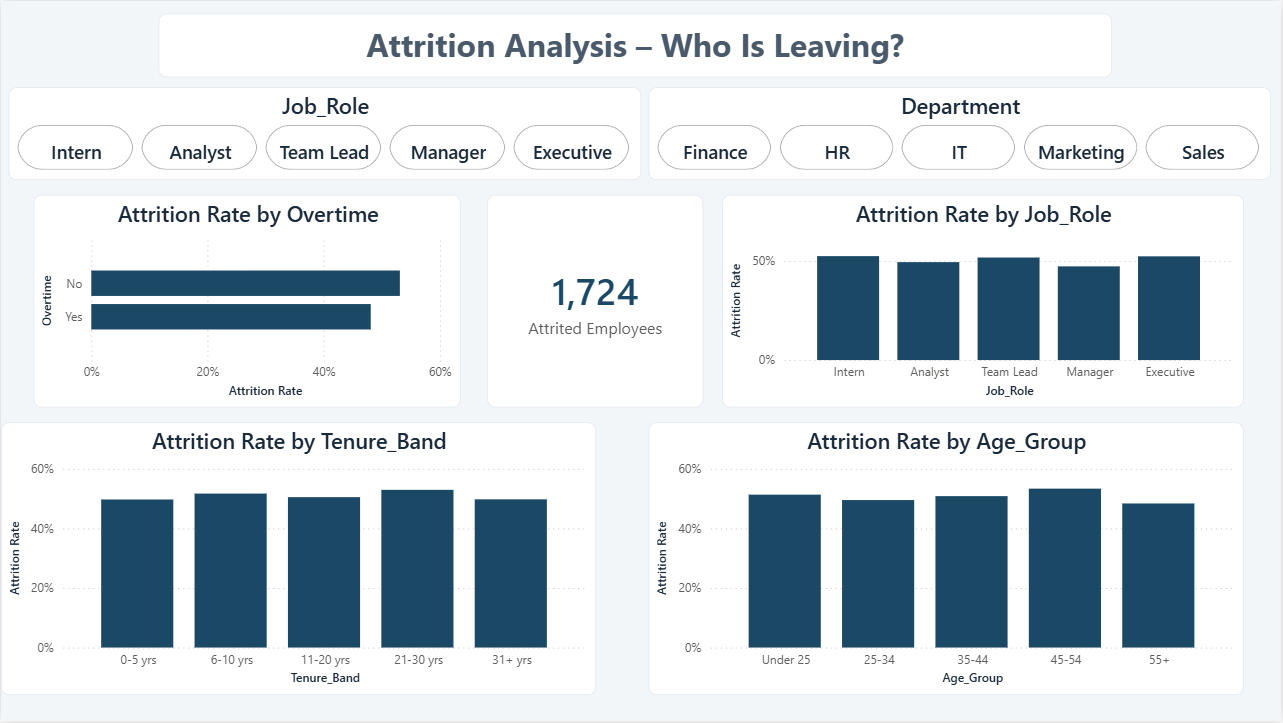

Layout of this report page (visuals, bound fields, positions):
{"tool":"powerbi","page":{"name":"Attrition Analysis","canvas":[1280,720],"ordinal":1},"visuals":[{"type":"advancedSlicerVisual","fields":{"Values":["Dim_JobRole.Job_Role"]},"box":[7.5,86.2,632.5,92.5],"z":0},{"type":"advancedSlicerVisual","fields":{"Values":["Dim_Department.Department"]},"box":[647.5,86.2,622.5,92.5],"z":1000},{"type":"clusteredColumnChart","fields":{"Category":["Dim_JobRole.Job_Role"],"Y":["Fact_Employee.Attrition Rate"]},"box":[721.2,193.8,521.2,212.5],"z":2000},{"type":"clusteredColumnChart","fields":{"Category":["Fact_Employee.Age_Group"],"Y":["Fact_Employee.Attrition Rate"]},"box":[647.5,421.2,595,272.5],"z":3000},{"type":"clusteredBarChart","fields":{"Category":["Fact_Employee.Overtime"],"Y":["Fact_Employee.Attrition Rate"]},"box":[32.5,193.8,427.5,212.5],"z":4000},{"type":"clusteredColumnChart","fields":{"Category":["Fact_Employee.Tenure_Band"],"Y":["Fact_Employee.Attrition Rate"]},"box":[0,421.2,595,272.5],"z":5000},{"type":"card","fields":{"Values":["Fact_Employee.Attrited Employees"]},"box":[486.2,193.8,216.2,212.5],"z":6000},{"type":"textbox","box":[157.5,12.5,953.8,63.8],"z":7000}]}

Visuals, with their boxes in screenshot pixels (x1, y1, x2, y2), scaled from the page's 1280x720 canvas onto the 1283x723 screenshot:
advancedSlicerVisual - Dim_JobRole.Job_Role: [8,87,642,179]
advancedSlicerVisual - Dim_Department.Department: [649,87,1273,179]
clusteredColumnChart - Dim_JobRole.Job_Role x Fact_Employee.Attrition Rate: [723,195,1245,408]
clusteredColumnChart - Fact_Employee.Age_Group x Fact_Employee.Attrition Rate: [649,423,1245,697]
clusteredBarChart - Fact_Employee.Overtime x Fact_Employee.Attrition Rate: [33,195,461,408]
clusteredColumnChart - Fact_Employee.Tenure_Band x Fact_Employee.Attrition Rate: [0,423,596,697]
card - Fact_Employee.Attrited Employees: [487,195,704,408]
textbox: [158,13,1114,77]
